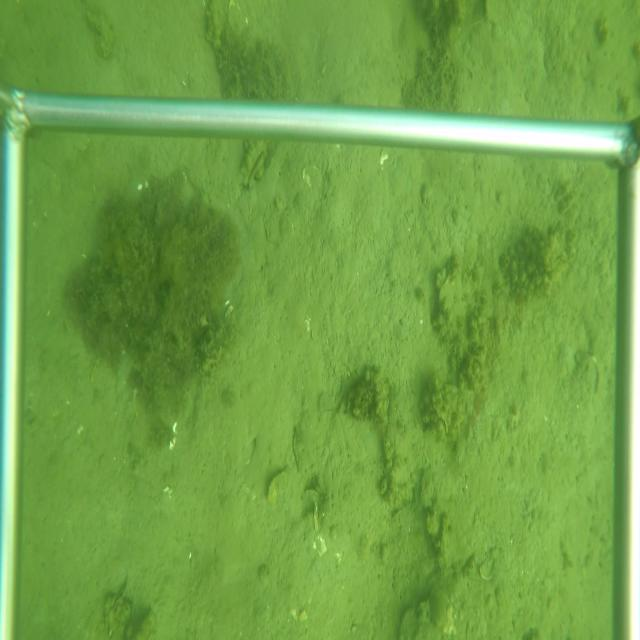Oyster-Indeterminate: (265, 468, 287, 505)
